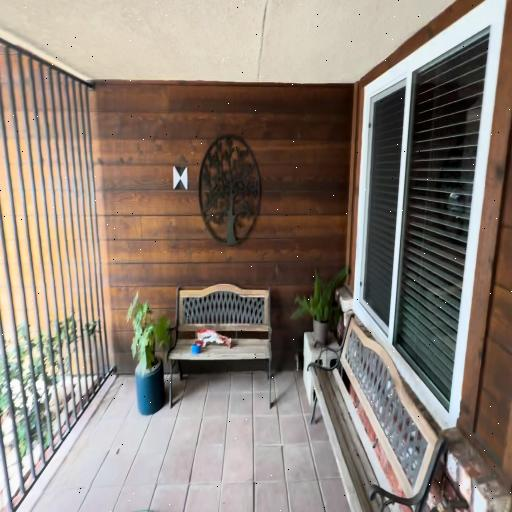target: (174, 165, 188, 191)
